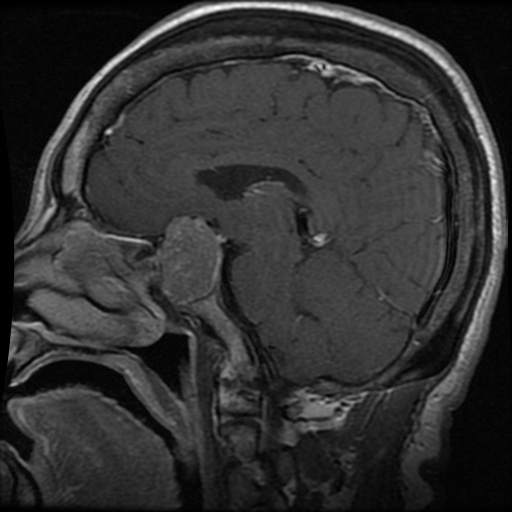pituitary: (159, 218, 220, 301)
